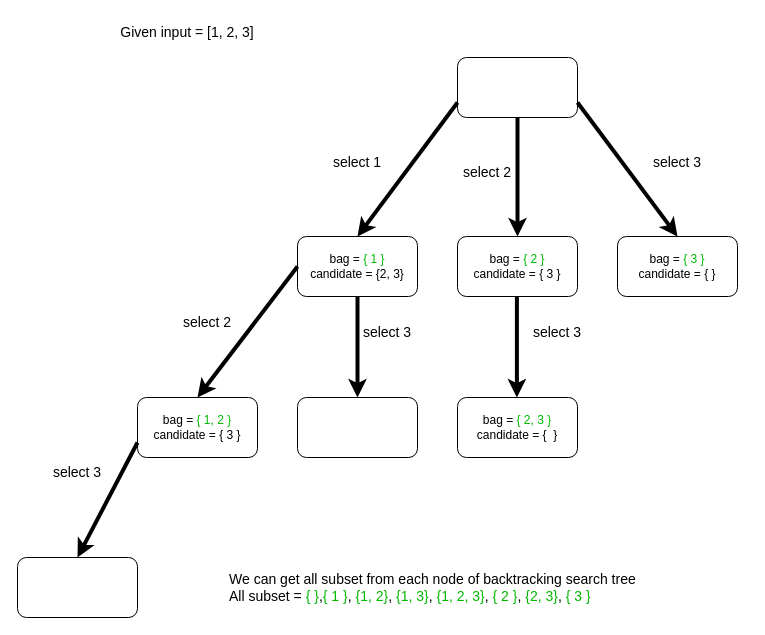
Image size: 765x635. Some labels were removed from this diagram. Each missing label, with the box of its shape:
bag = { 1, 2, 3 } candidate = { }: (16, 556, 138, 618)
bag = { 1, 3 } candidate = { }: (296, 396, 418, 458)
bag = { } candidate = {1, 2, 3}: (456, 56, 578, 118)
